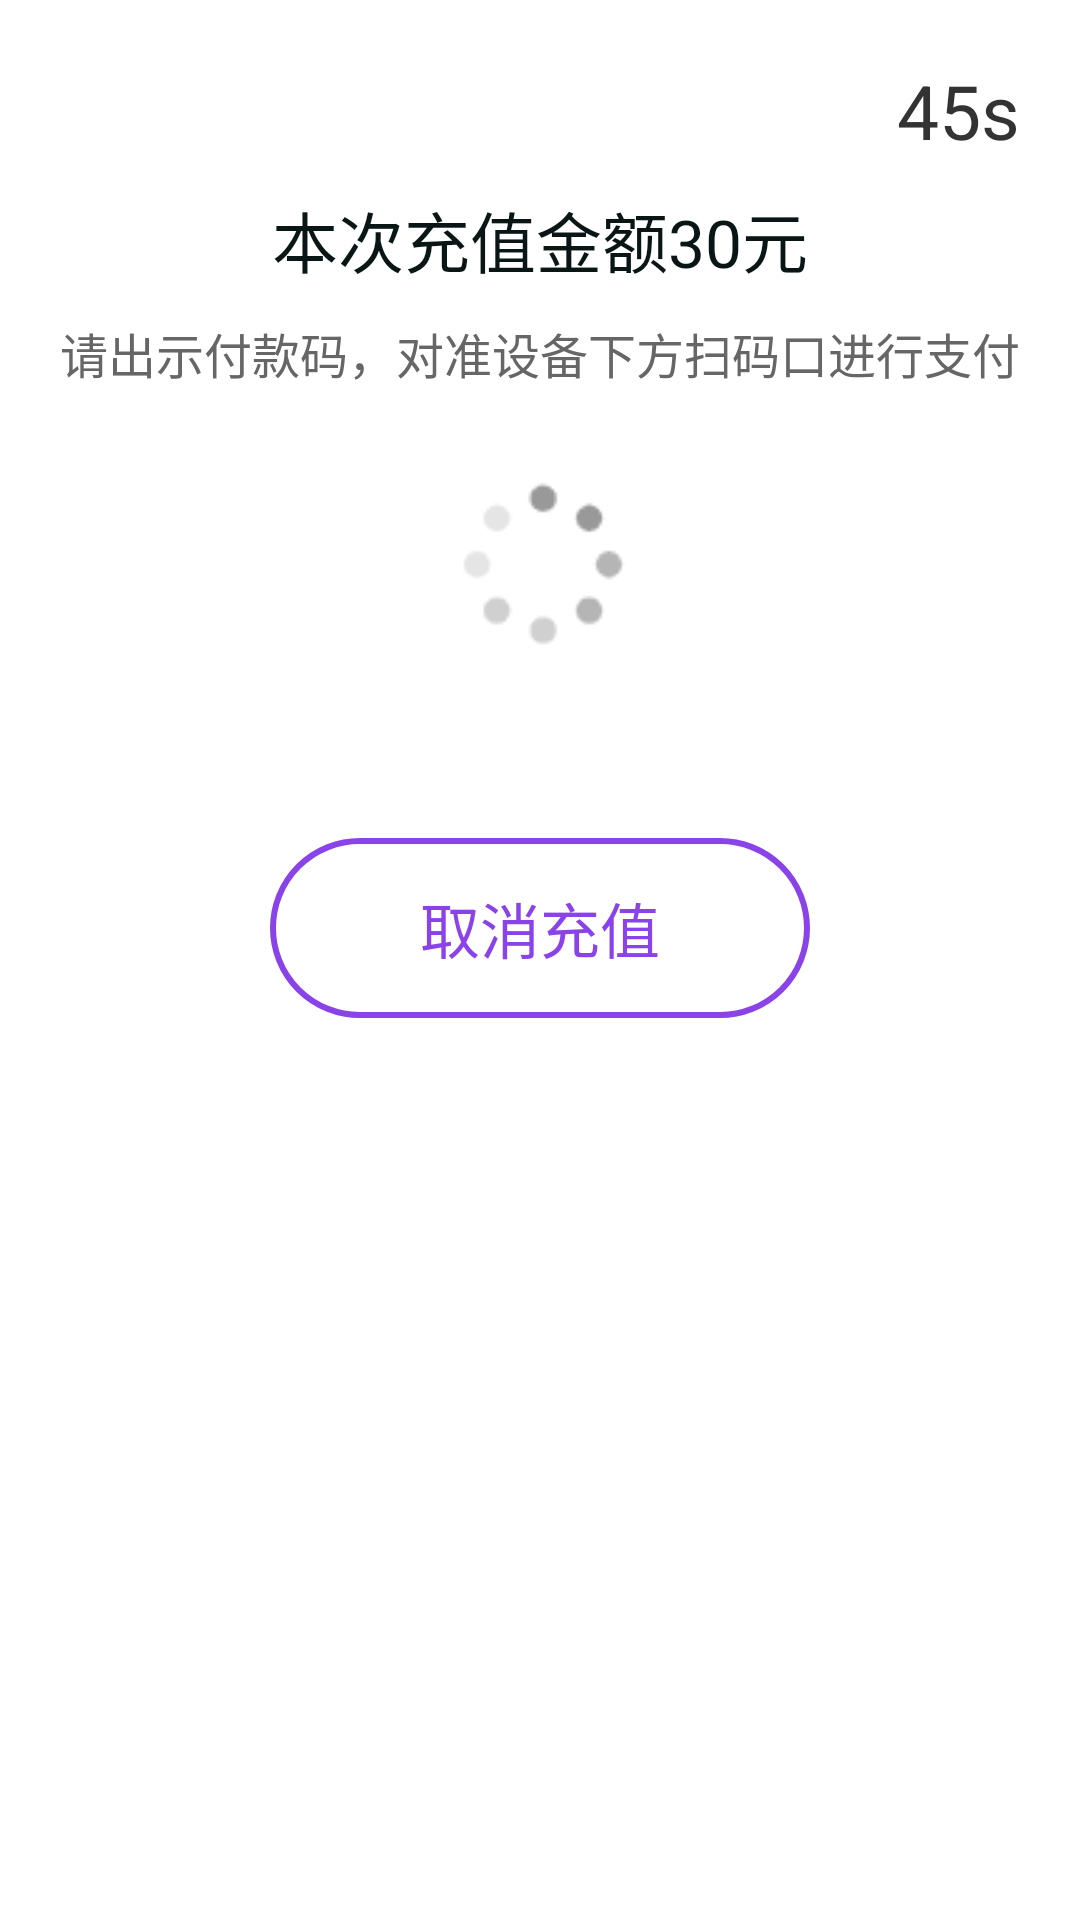

Point at icon controls on the screen. Image size 1080*1920, points as point (x, y).
loading: point (543, 563)
